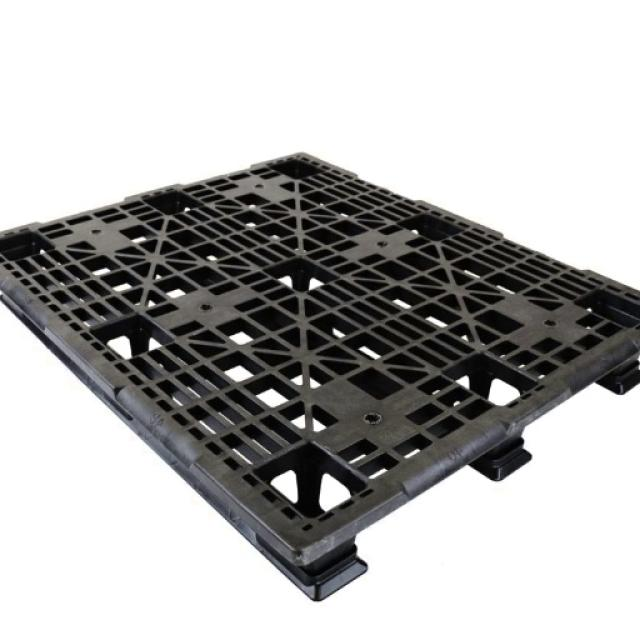non-igps: (0, 142, 640, 608)
